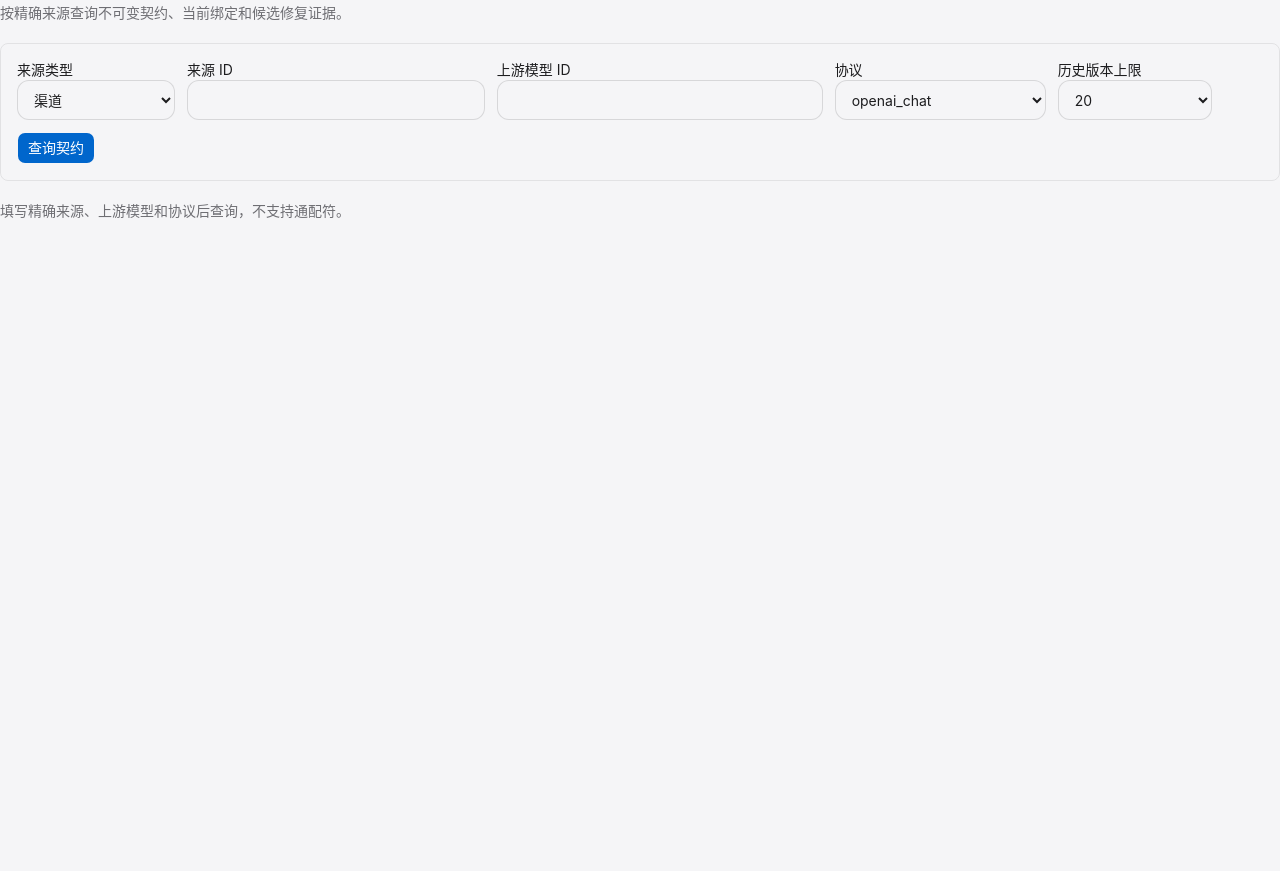
Test: upstream contract administration › shows exact binding versions, immutable documents and candidate review evidence for read-only operators
The width and height of the screenshot is (1280, 871).
expect the button "查询契约" is enabled: met, box left=17, top=132, right=95, bottom=164
Type "9007199254740993" into the field labelled "来源 ID".
click(336, 100); type("9007199254740993")  # box left=187, top=80, right=485, bottom=120
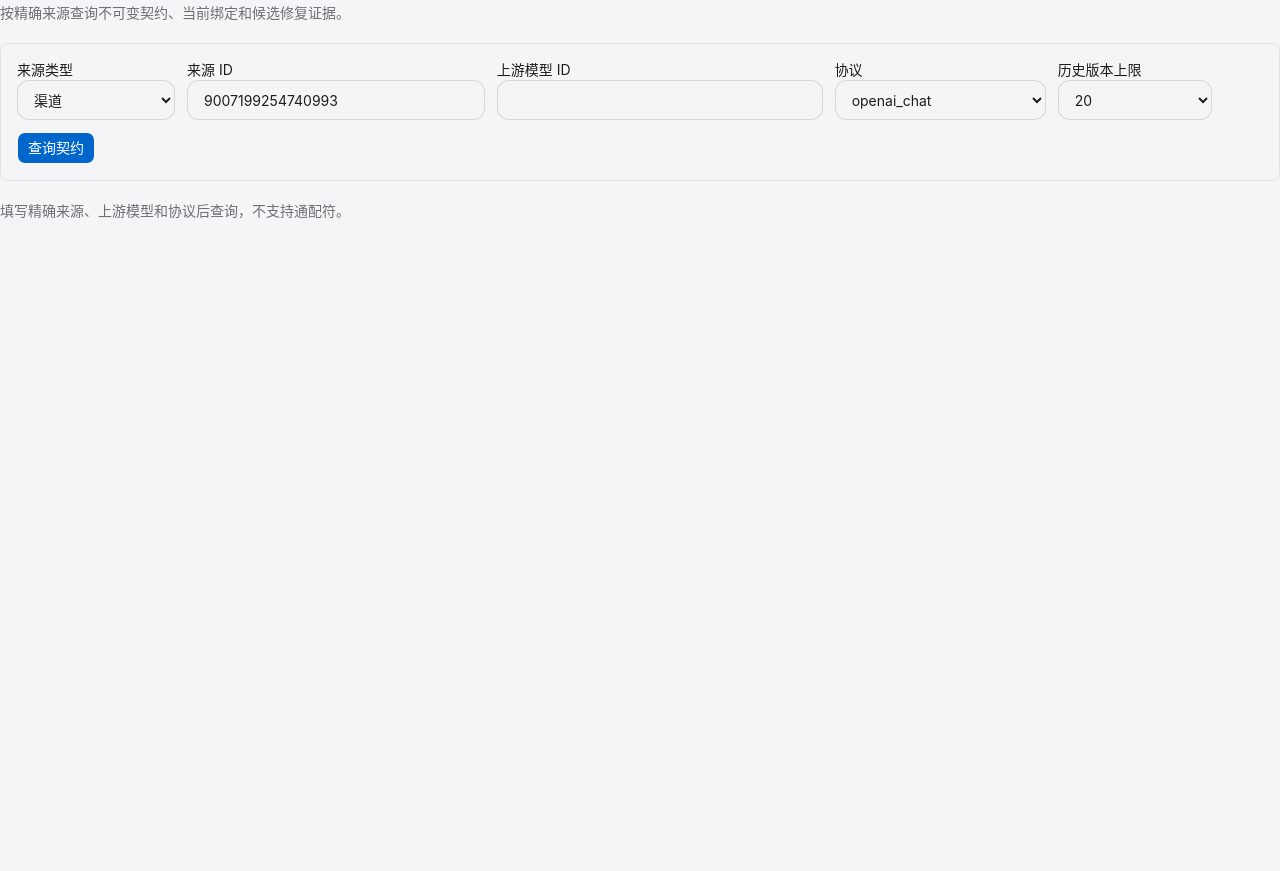
Type "claude-sonnet" into the field labelled "上游模型 ID".
click(660, 100); type("claude-sonnet")  # box left=497, top=80, right=823, bottom=120
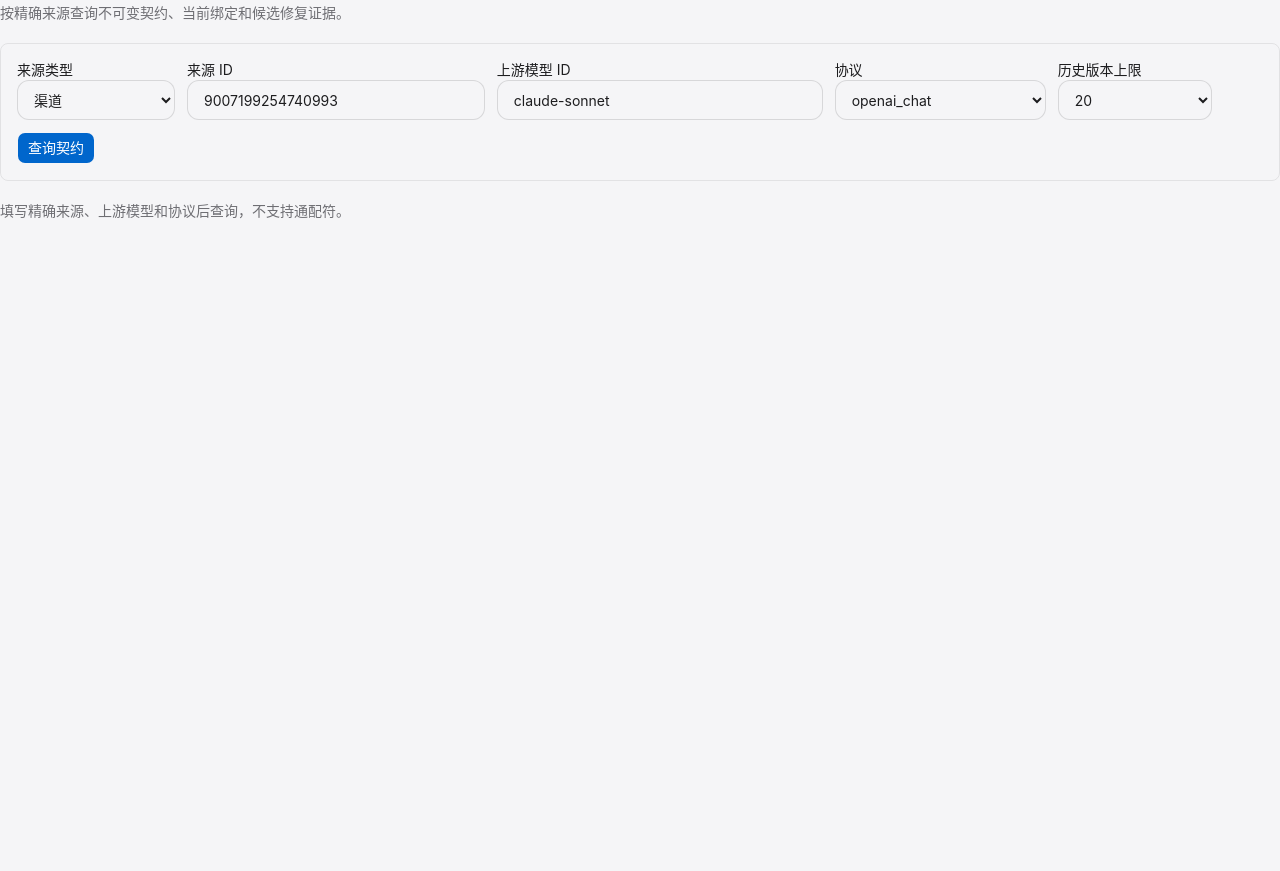
Select "anthropic_messages" in the dropdown labelled "协议" at x=940, y=100, box left=835, top=80, right=1046, bottom=120
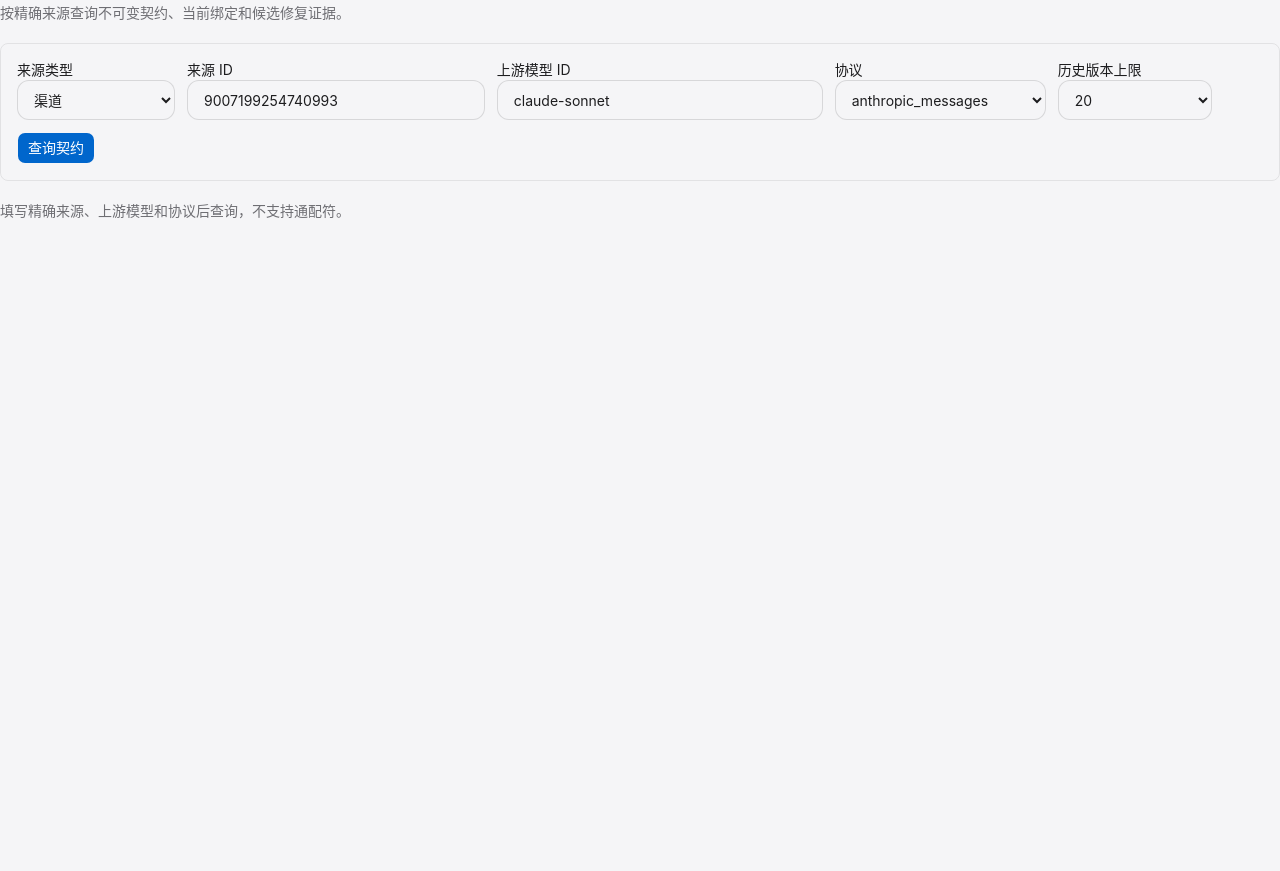
Click the button "查询契约".
click(56, 148)  # box left=17, top=132, right=95, bottom=164
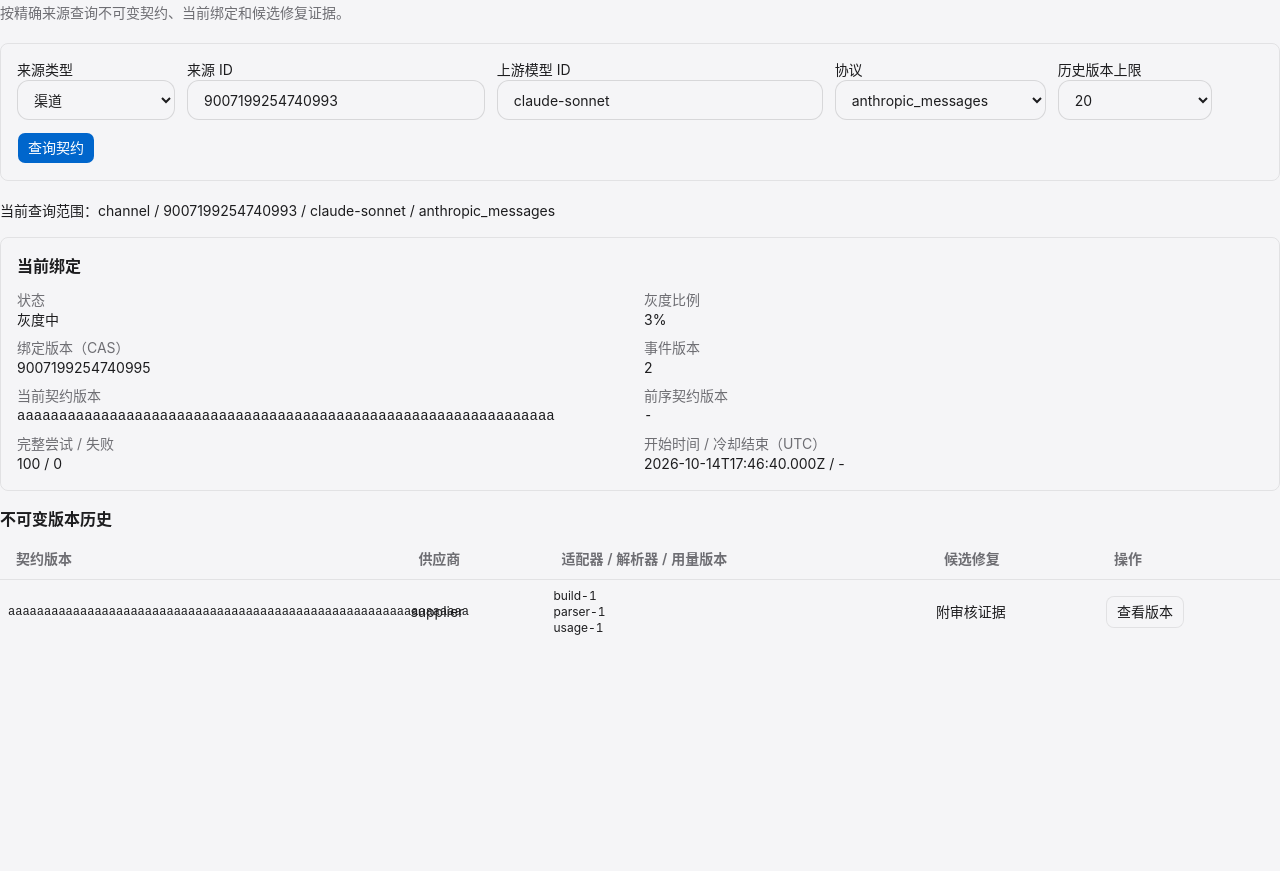
expect the text "supplier" is shown: met, box left=402, top=579, right=546, bottom=644
expect the text "9007199254740995" is shown: met, box left=17, top=359, right=151, bottom=376
expect the text "3%" is shown: met, box left=644, top=311, right=666, bottom=328
Click the button "查看版本".
click(1145, 612)  # box left=1106, top=596, right=1184, bottom=628
(page scrolled)
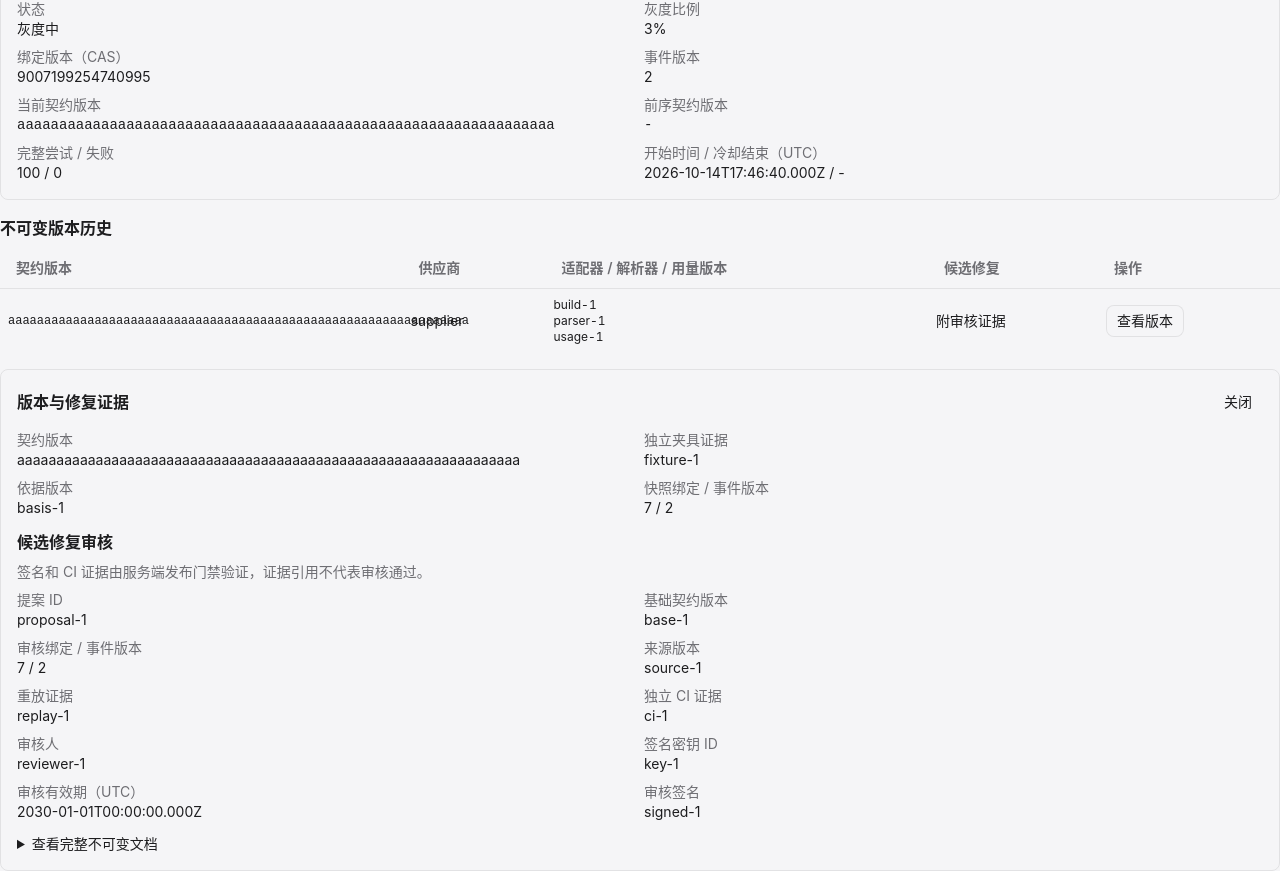
expect the text "proposal-1" is shown: met, box left=17, top=610, right=87, bottom=628
expect the text "ci-1" is shown: met, box left=644, top=706, right=668, bottom=724
expect the text "reviewer-1" is shown: met, box left=17, top=754, right=85, bottom=772
